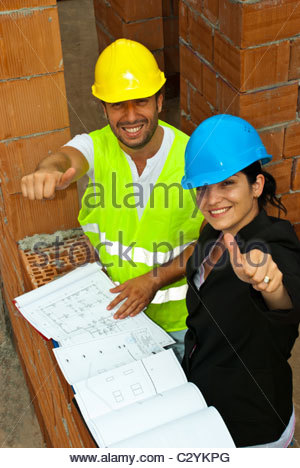casco: (180, 113, 273, 191), (90, 37, 168, 104)
